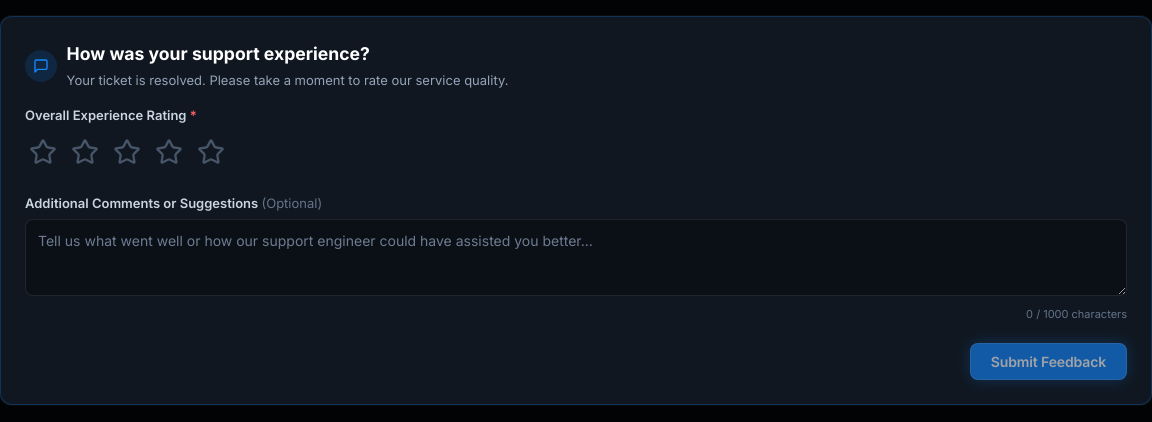
Scenario: Frontend Customer Feedback and Ratings Component Tests › allows selecting star ratings and displays corresponding rating label
The width and height of the screenshot is (1152, 422).
Click the radio button named "5 star - Excellent".
click(211, 154)  # box [193,134,229,174]
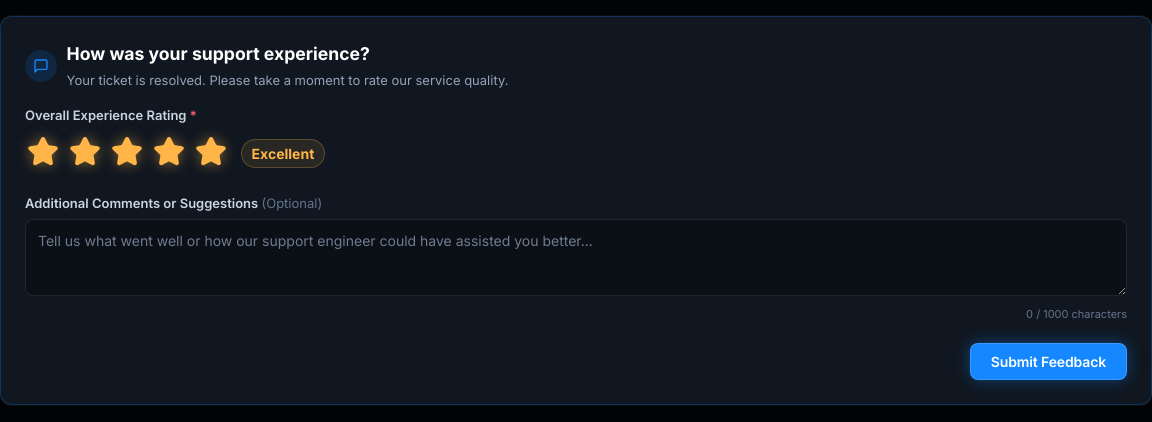
Result: the text "Excellent" is shown at [241,139,325,168]
Result: the button "Submit Feedback" is enabled at [970,343,1127,380]
